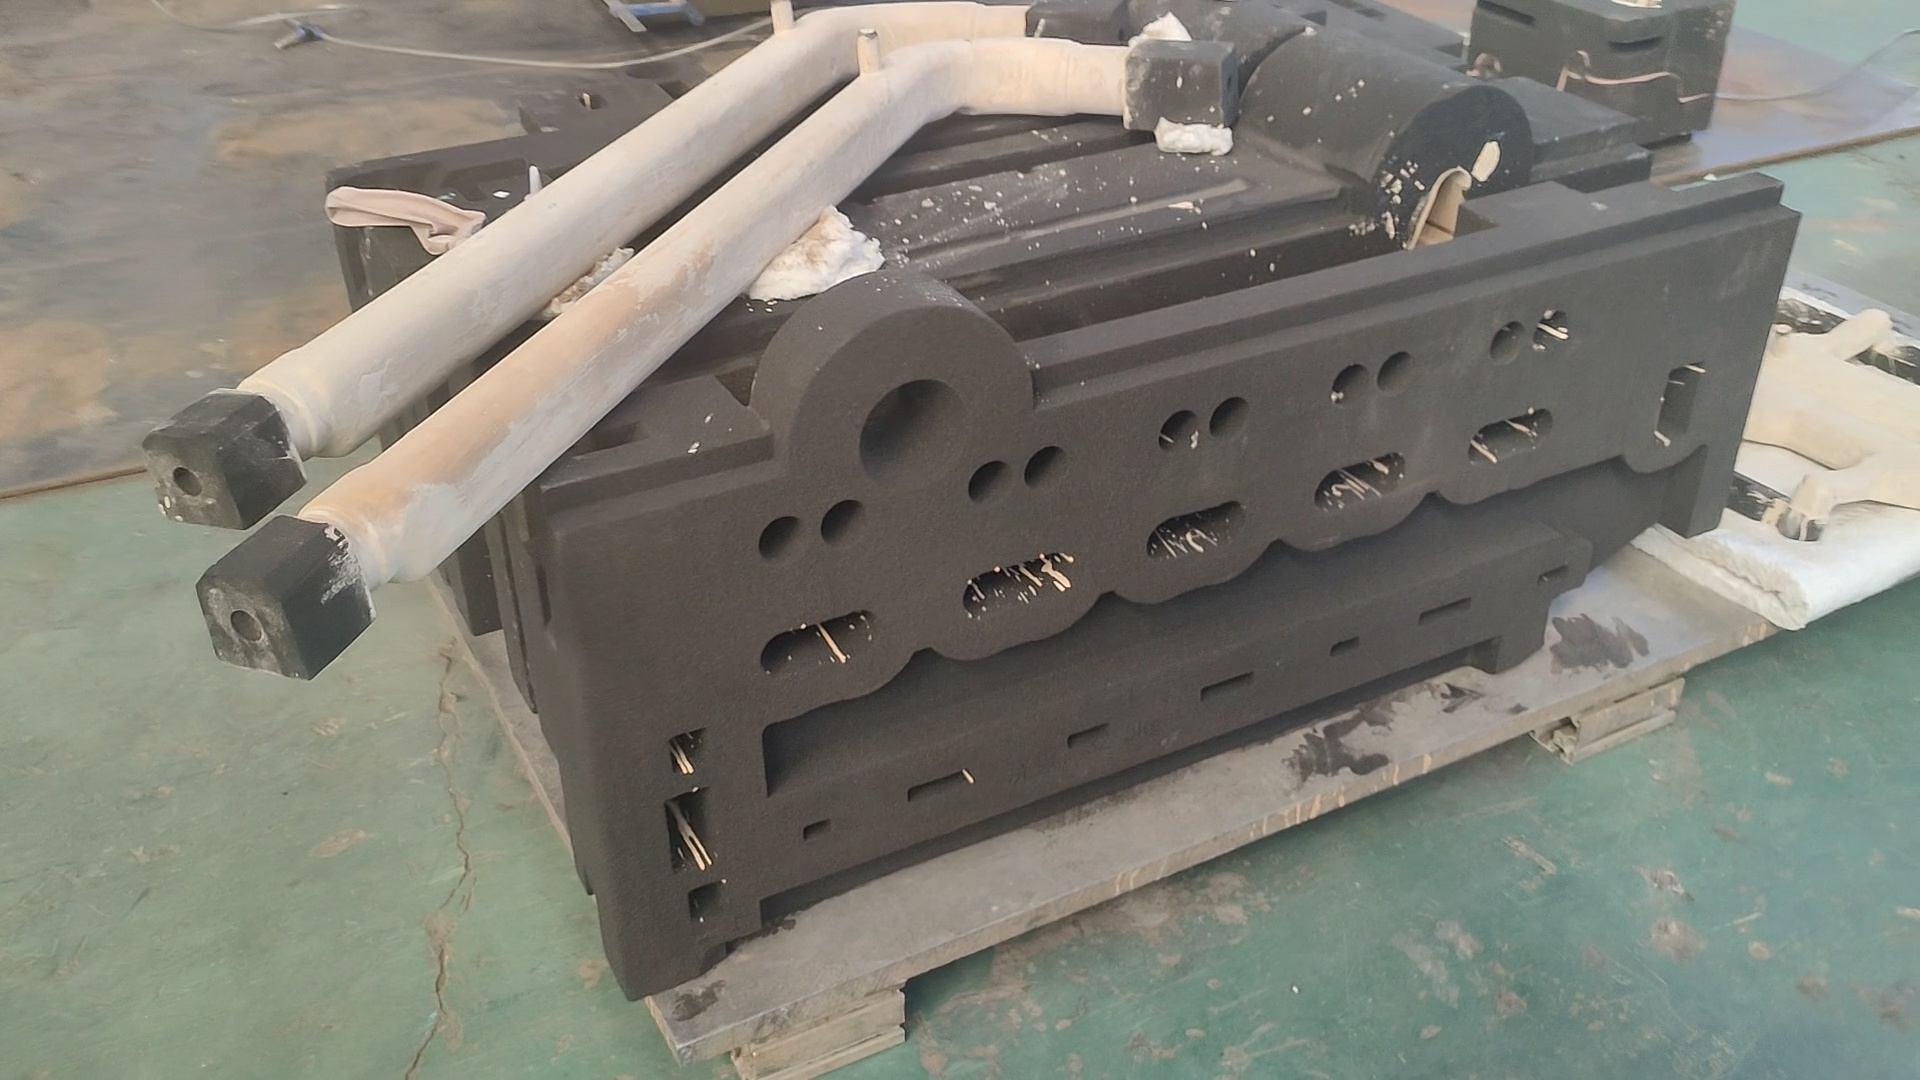pouring hole: (857, 378, 971, 495), (624, 57, 686, 80)
